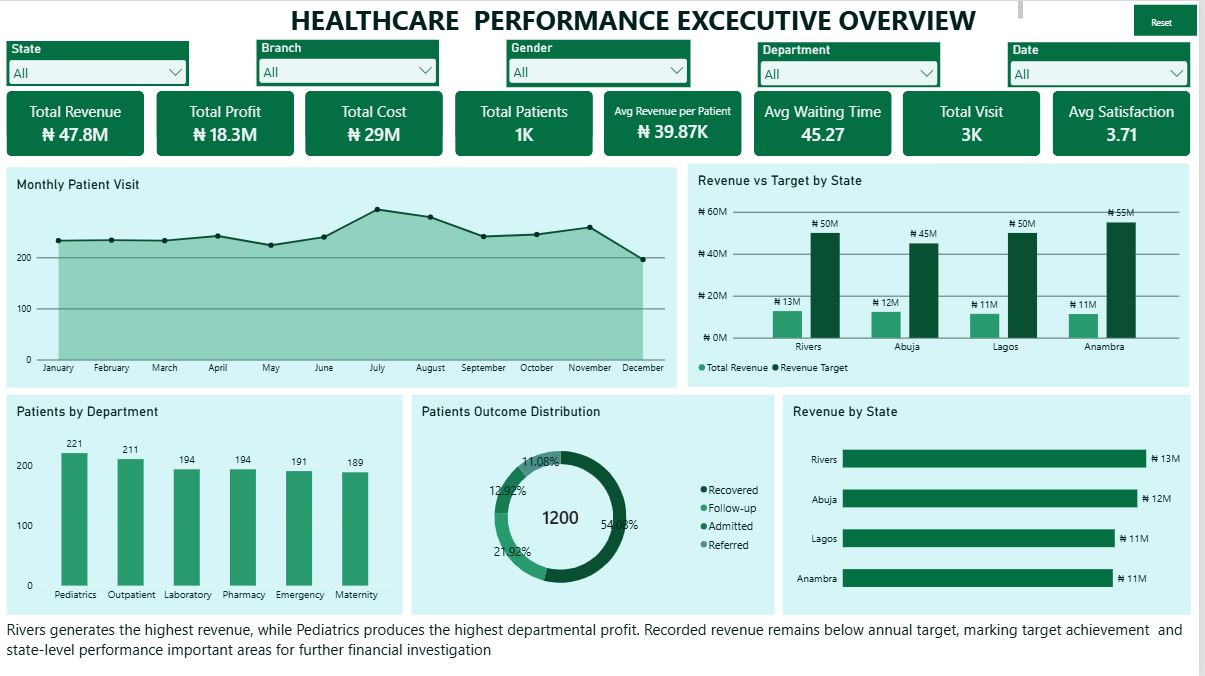

The dashboard page shown, as its layout file describes it:
{"tool":"powerbi","page":{"name":"Executive Overview","canvas":[1920,1080],"ordinal":0},"visuals":[{"type":"cardVisual","fields":{"Data":["State_Targets.Total Revenue"]},"box":[12.3,144.1,220.2,105],"z":0},{"type":"cardVisual","fields":{"Data":["State_Targets.Total Patients"]},"box":[729.5,144.1,220.2,105],"z":1000},{"type":"cardVisual","fields":{"Data":["State_Targets.Total Visit"]},"box":[1446.7,146.1,220.2,105],"z":2000},{"type":"cardVisual","fields":{"Data":["State_Targets.Total Cost"]},"box":[490.5,144.1,220.2,105],"z":3000},{"type":"cardVisual","fields":{"Data":["State_Targets.Total Profit"]},"box":[251.4,144.1,220.2,105],"z":4000},{"type":"cardVisual","fields":{"Data":["State_Targets.Avg Revenue per Patient"]},"box":[968.6,144.1,220.2,105],"z":5000},{"type":"cardVisual","fields":{"Data":["State_Targets.Avg Satifactory"]},"box":[1685.8,144.1,220.2,105],"z":6000},{"type":"cardVisual","fields":{"Data":["State_Targets.Avg Waiting Time"]},"box":[1207.6,144.1,220.2,105],"z":7000},{"type":"slicer","fields":{"Values":["Date_Table.Date"]},"box":[1613.7,67.9,292.3,72],"z":8000},{"type":"slicer","fields":{"Values":["State_Targets.State"]},"box":[12.3,65.9,292.3,72],"z":9000},{"type":"slicer","fields":{"Values":["Patient_Visits.Branch"]},"box":[413.7,63.8,292.3,74.1],"z":10000},{"type":"slicer","fields":{"Values":["Patient_Visits.Gender"]},"box":[813,63.8,292.3,76.2],"z":11000},{"type":"slicer","fields":{"Values":["Patient_Visits.Department"]},"box":[1214.4,67.9,292.3,72],"z":12000},{"type":"areaChart","title":"Monthly Patient Visit","fields":{"Category":["Date_Table.Month"],"Y":["State_Targets.Total Visit"]},"box":[12.3,259.3,1072.4,335.5],"z":13000},{"type":"barChart","title":" Revenue by State","fields":{"Category":["Patient_Visits.State"],"Y":["State_Targets.Total Revenue"]},"box":[1253.5,605.1,652.5,393.1],"z":14000},{"type":"clusteredColumnChart","title":"Patients by Department","fields":{"Category":["Patient_Visits.Department"],"Y":["State_Targets.Total Patients"]},"box":[12.3,605.1,623.7,393.1],"z":15000},{"type":"clusteredColumnChart","title":"Revenue vs Target by State","fields":{"Category":["State_Targets.State"],"Y":["State_Targets.Total Revenue","State_Targets.Revenue Target"]},"box":[1103.3,249.1,802.7,345.8],"z":16000},{"type":"donutChart","title":" Patients Outcome Distribution","fields":{"Category":["Patient_Visits.Outcome"],"Y":["State_Targets.Total Patients"]},"box":[648.4,605.1,580.4,393.1],"z":17000},{"type":"actionButton","box":[1815.4,6.2,100.9,49.4],"z":18000},{"type":"textbox","box":[12.3,6.2,1626.1,49.4],"z":19000},{"type":"textbox","box":[12.5,997.5,1892.5,82.5],"z":20000}]}

Visuals, with their boxes in screenshot pixels (x1, y1, x2, y2), scaled from the page's 1920x1080 canvas onto the 1205x676 screenshot:
cardVisual - State_Targets.Total Revenue: (left=8, top=90, right=146, bottom=156)
cardVisual - State_Targets.Total Patients: (left=458, top=90, right=596, bottom=156)
cardVisual - State_Targets.Total Visit: (left=908, top=91, right=1046, bottom=157)
cardVisual - State_Targets.Total Cost: (left=308, top=90, right=446, bottom=156)
cardVisual - State_Targets.Total Profit: (left=158, top=90, right=296, bottom=156)
cardVisual - State_Targets.Avg Revenue per Patient: (left=608, top=90, right=746, bottom=156)
cardVisual - State_Targets.Avg Satifactory: (left=1058, top=90, right=1196, bottom=156)
cardVisual - State_Targets.Avg Waiting Time: (left=758, top=90, right=896, bottom=156)
slicer - Date_Table.Date: (left=1013, top=43, right=1196, bottom=88)
slicer - State_Targets.State: (left=8, top=41, right=191, bottom=86)
slicer - Patient_Visits.Branch: (left=260, top=40, right=443, bottom=86)
slicer - Patient_Visits.Gender: (left=510, top=40, right=694, bottom=88)
slicer - Patient_Visits.Department: (left=762, top=43, right=946, bottom=88)
"Monthly Patient Visit" areaChart: (left=8, top=162, right=681, bottom=372)
" Revenue by State" barChart: (left=787, top=379, right=1196, bottom=625)
"Patients by Department" clusteredColumnChart: (left=8, top=379, right=399, bottom=625)
"Revenue vs Target by State" clusteredColumnChart: (left=692, top=156, right=1196, bottom=372)
" Patients Outcome Distribution" donutChart: (left=407, top=379, right=771, bottom=625)
actionButton: (left=1139, top=4, right=1203, bottom=35)
textbox: (left=8, top=4, right=1028, bottom=35)
textbox: (left=8, top=624, right=1196, bottom=675)
